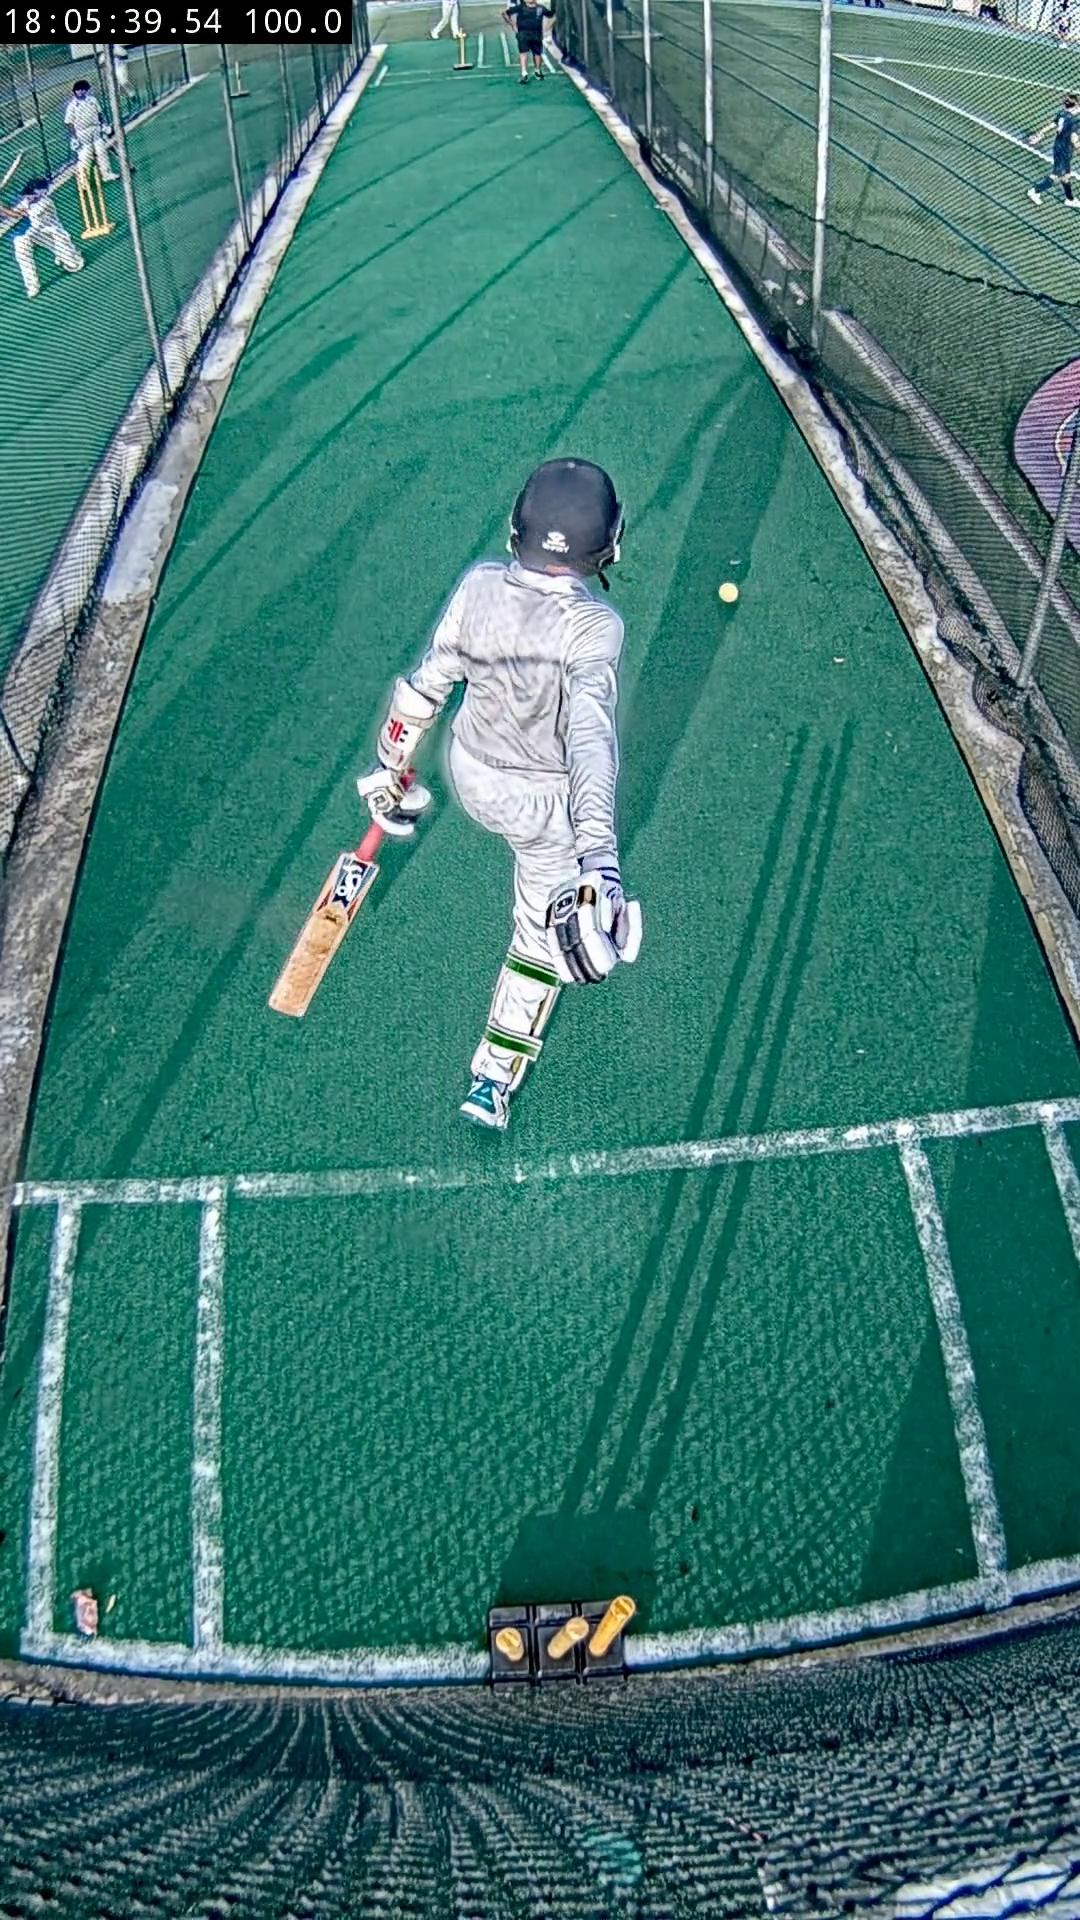ball: (716, 582, 738, 604)
bat: (356, 822, 382, 862)
gloves: (547, 866, 641, 982), (356, 765, 431, 836)
helmet: (510, 458, 622, 574)
stumps: (488, 1594, 637, 1684)
